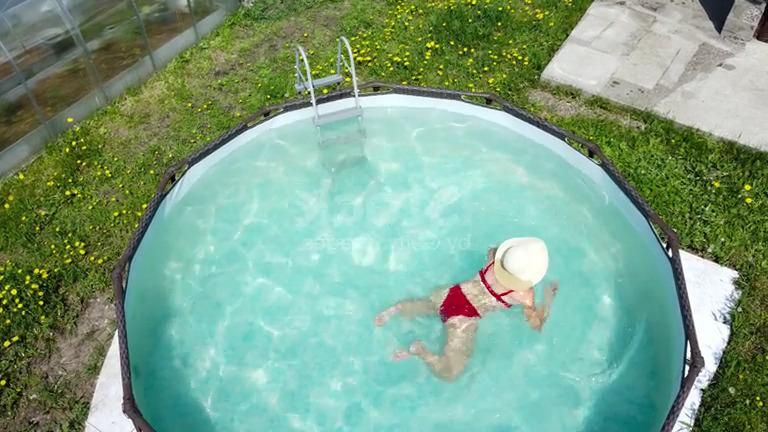Swimming: (357, 201, 595, 384)
